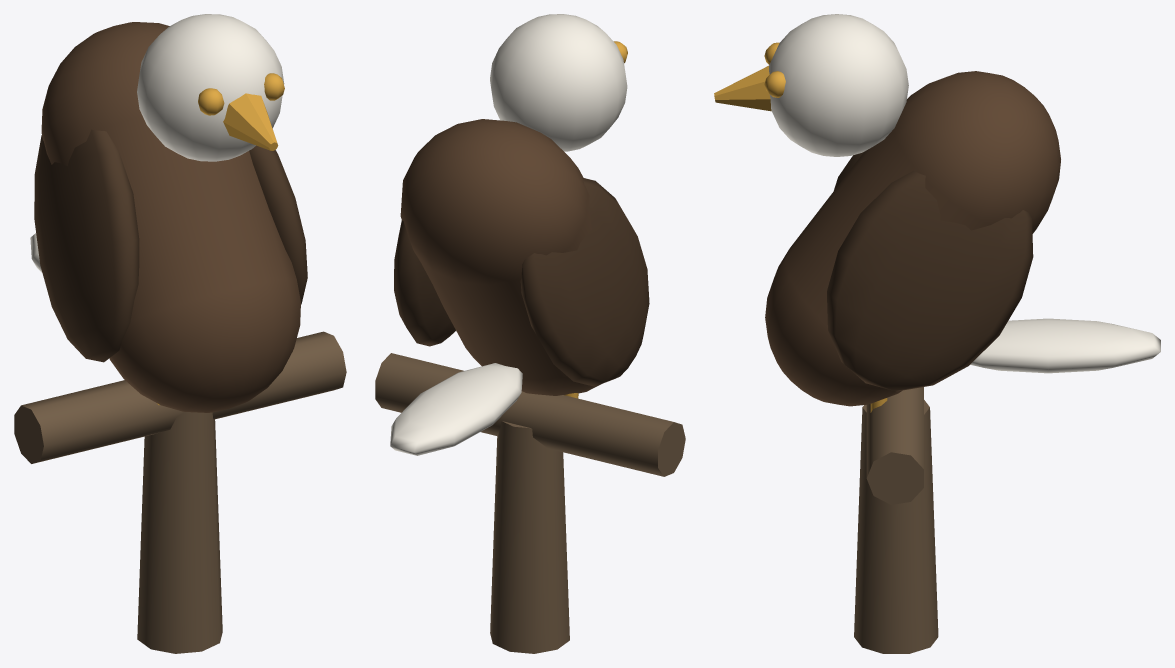
The model's file is h20-elang.glb.
The picture shows the model from 3 angles, left to right: view 1: azimuth 30°, elevation 25°; view 2: azimuth 150°, elevation 25°; view 3: azimuth 270°, elevation 25°; orthographic projection. The views are drawn at different scales.
Visible parts, largest first — view 1: Elang Botak, head; view 2: Elang Botak, head; view 3: Elang Botak, head.
Part boxes in pixels (box(x1,y1,x2,y2)): Elang Botak: box(14, 22, 346, 653); head: box(137, 14, 284, 161); Elang Botak: box(375, 119, 685, 653); head: box(490, 14, 627, 151); Elang Botak: box(765, 71, 1160, 653); head: box(714, 14, 908, 156).
Size of the model in its own units: 0.4 by 0.805 by 0.5287.
